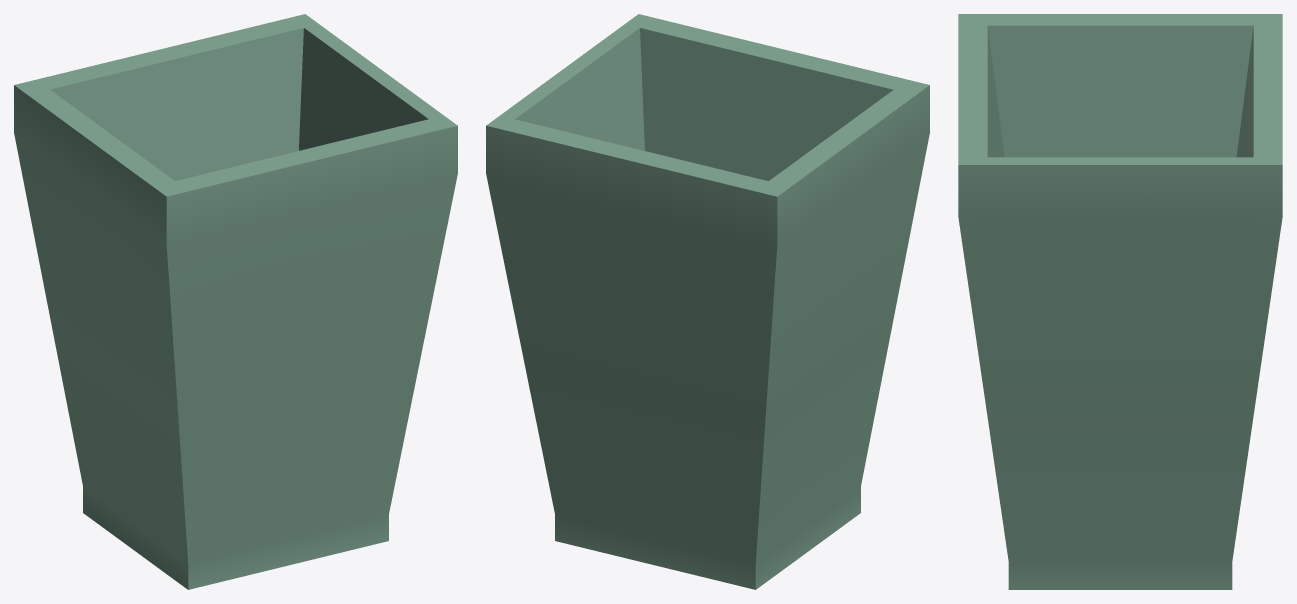
File: Bin.fbx
The picture shows the model from 3 angles, left to right: view 1: azimuth 30°, elevation 25°; view 2: azimuth 150°, elevation 25°; view 3: azimuth 270°, elevation 25°; orthographic projection. The views are drawn at different scales.
Visible parts, largest first — view 1: Bin; view 2: Bin; view 3: Bin.
Part boxes in pixels (x1,y1,x2,y2): Bin: [14, 14, 457, 589]; Bin: [486, 14, 929, 589]; Bin: [958, 14, 1282, 589].
Size of the model in its own units: 33.17 by 45.89 by 30.11.
